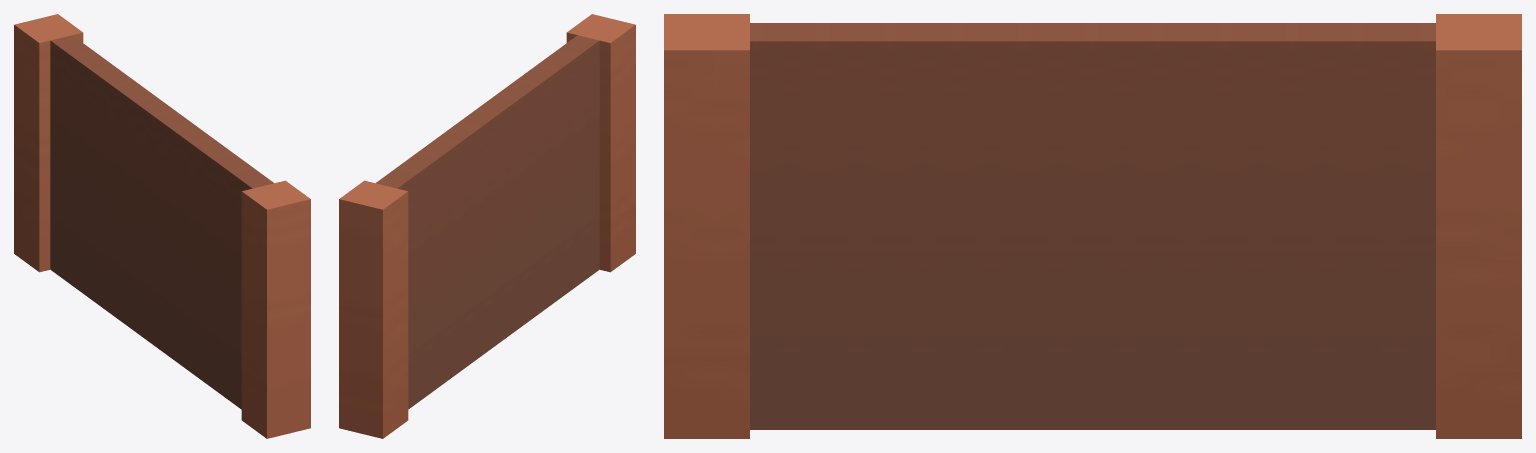
Rendered from wallWoodHalf.fbx.
The picture shows the model from 3 angles, left to right: view 1: azimuth 30°, elevation 25°; view 2: azimuth 150°, elevation 25°; view 3: azimuth 270°, elevation 25°; orthographic projection. The views are drawn at different scales.
Parts seen in each view (by area): view 1: wallWoodHalf; view 2: wallWoodHalf; view 3: wallWoodHalf.
Part boxes in pixels (left/top/right/bottom): wallWoodHalf: left=14, top=14, right=310, bottom=438; wallWoodHalf: left=339, top=14, right=635, bottom=438; wallWoodHalf: left=664, top=14, right=1521, bottom=438.
Size of the model in its own units: 0.1 by 1 by 0.5.
